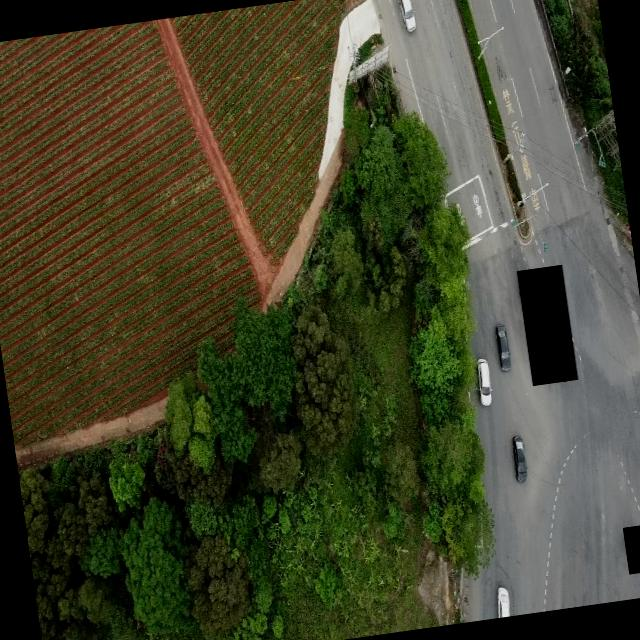car: (474, 357, 494, 407), (510, 434, 530, 484), (494, 324, 512, 372), (396, 0, 417, 33), (494, 586, 512, 618)
